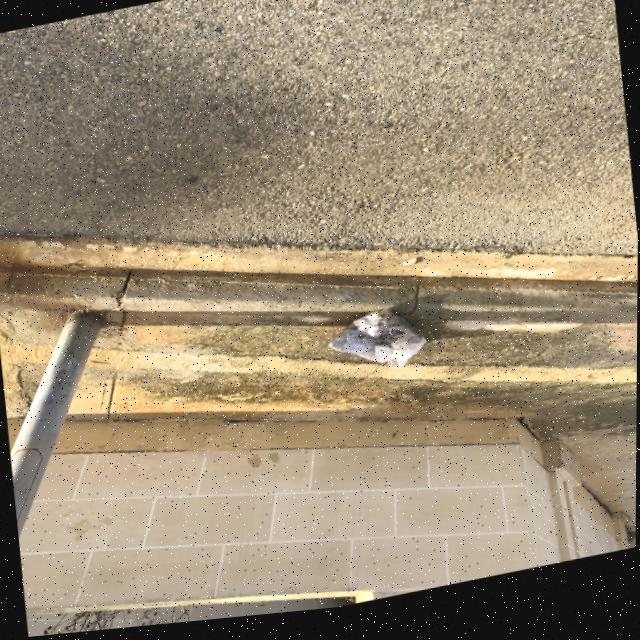Organic Waste -White Bag-: (321, 306, 432, 391)
